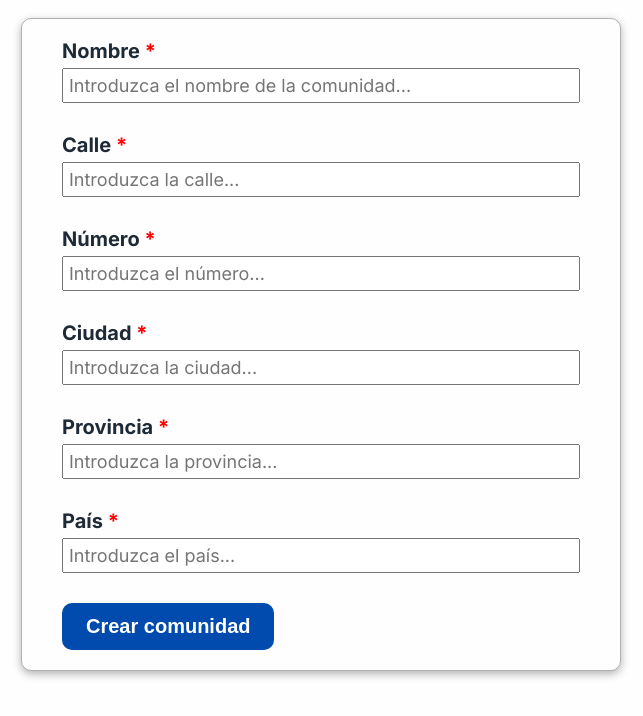
CommunityAddForm component test suite › should clear only the field with an error and keep the rest
Type "X" into the field named "name-input".
click(321, 86); type("X")  # box [62,68,580,103]
Type "Calle Mayor" into the field named "street-input".
click(321, 180); type("Calle Mayor")  # box [62,162,580,197]
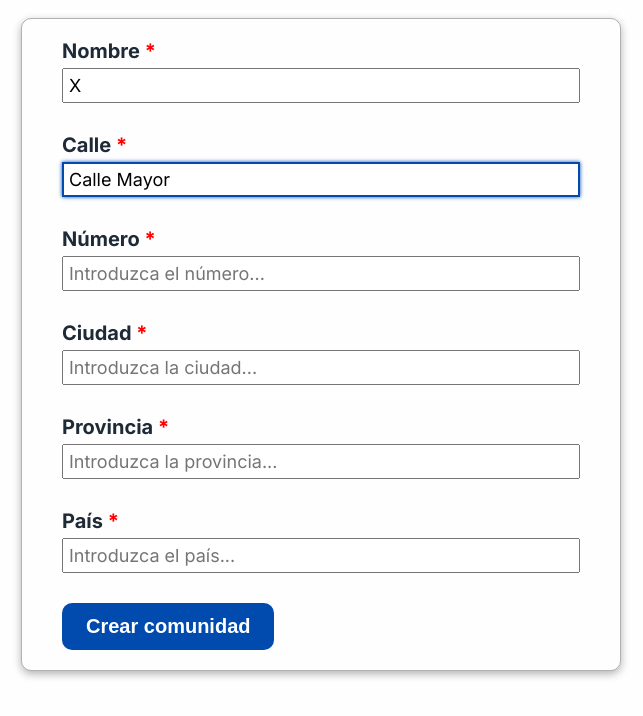
Type "12" into the number field named "number-input".
click(321, 274); type("12")  # box [62,256,580,291]
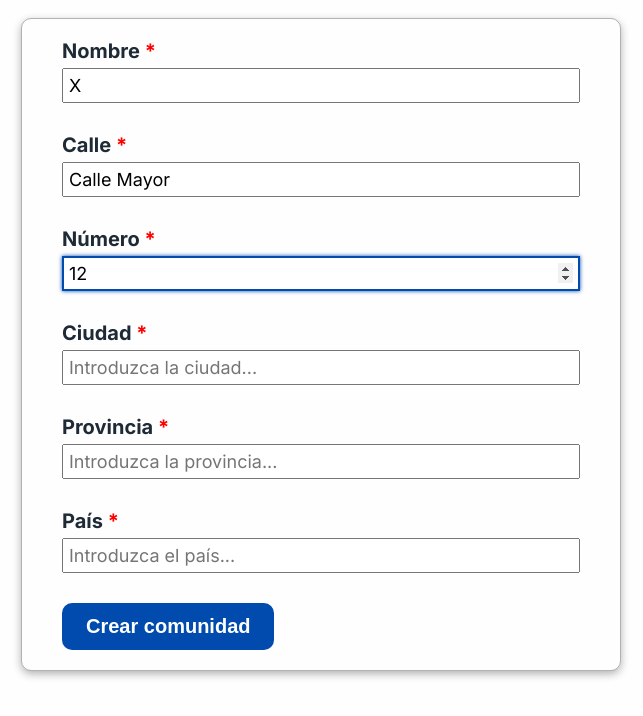
Type "Madrid" into the field named "city-input".
click(321, 368); type("Madrid")  # box [62,350,580,385]
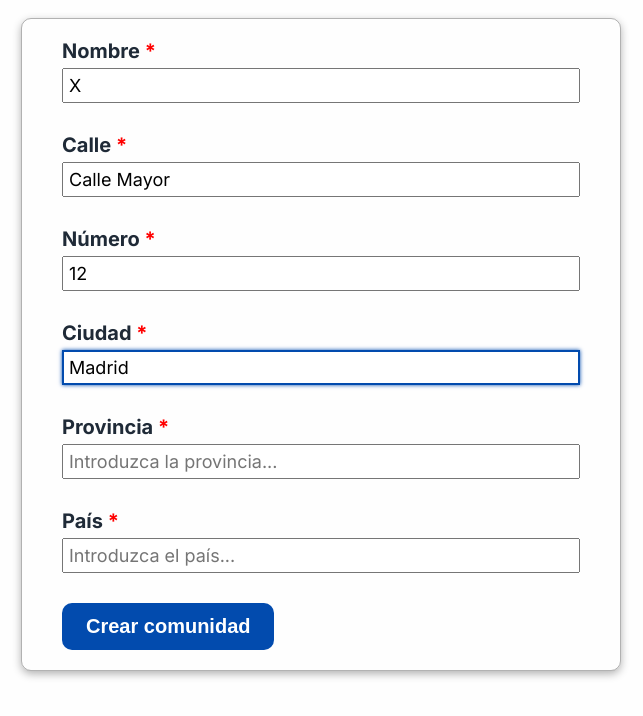
Type "Madrid" into the field named "province-input".
click(321, 462); type("Madrid")  # box [62,444,580,479]
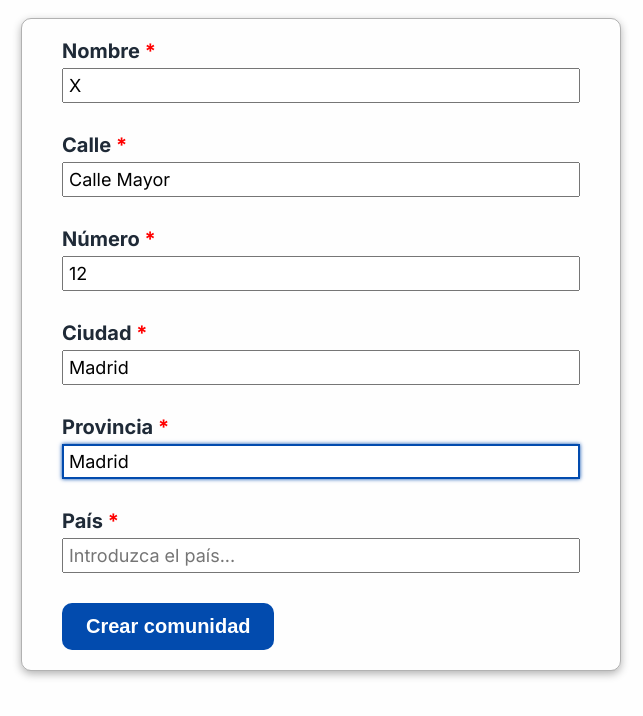
Type "España" into the field named "country-input".
click(321, 556); type("España")  # box [62,538,580,573]
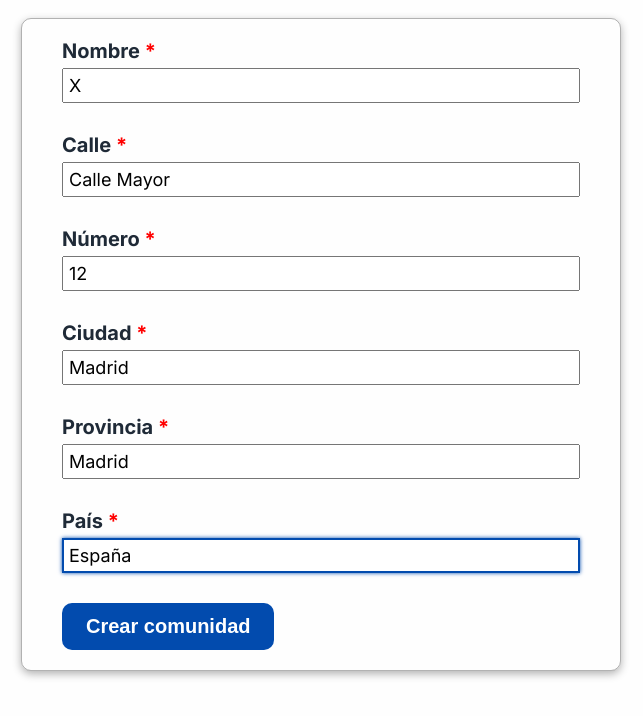
Click the button "Crear comunidad".
click(168, 626)  # box [62,603,274,650]
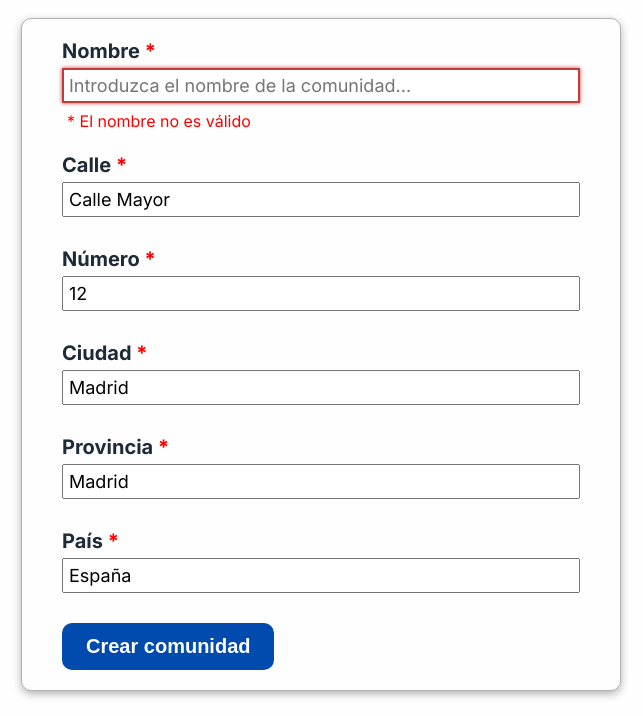
Result: the message "* El nombre no es válido" is shown at [67,111,251,131]
Result: the field named "name-input" is empty at [62,68,580,103]
